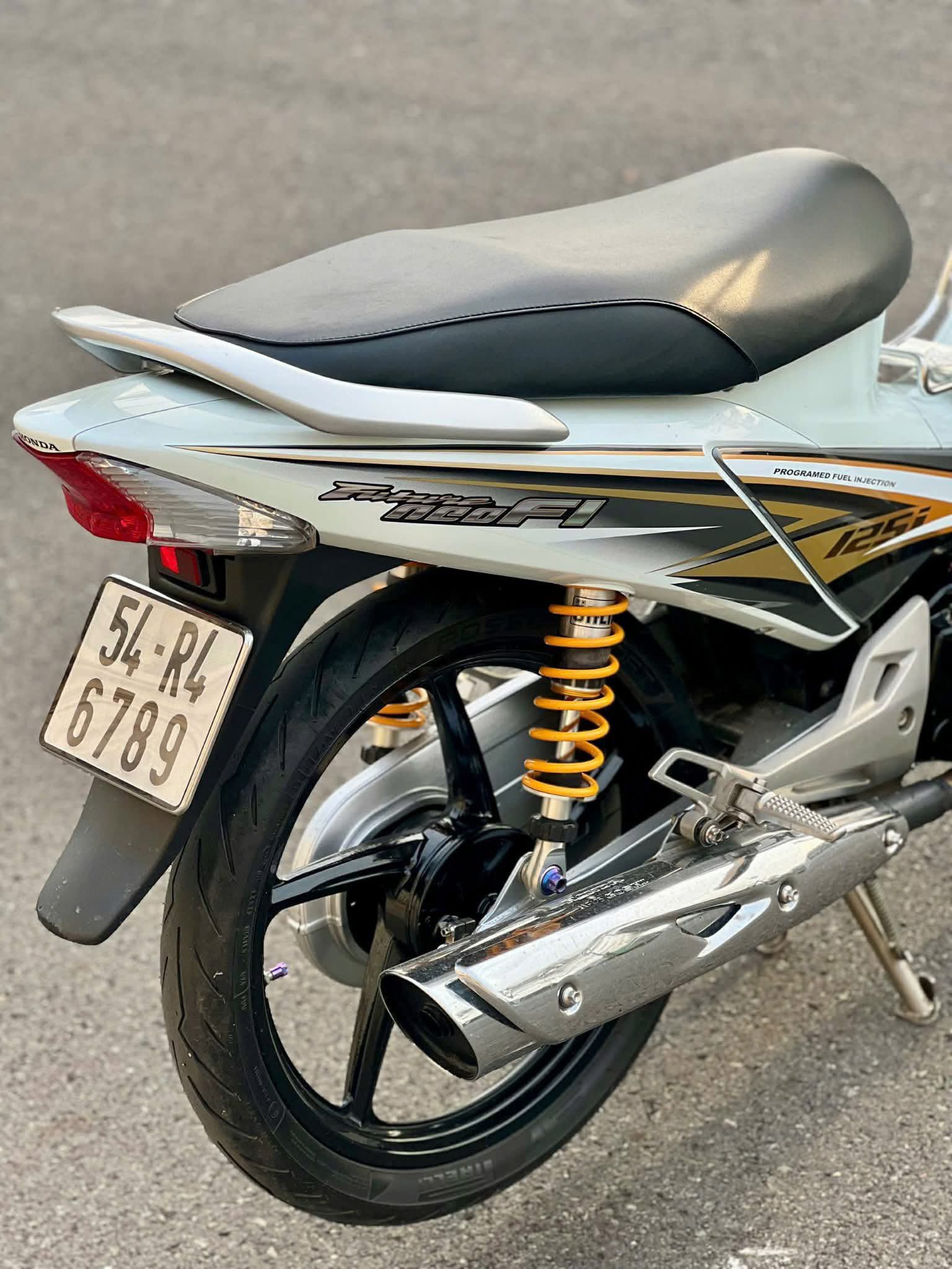bien_so: (31, 568, 263, 820)
